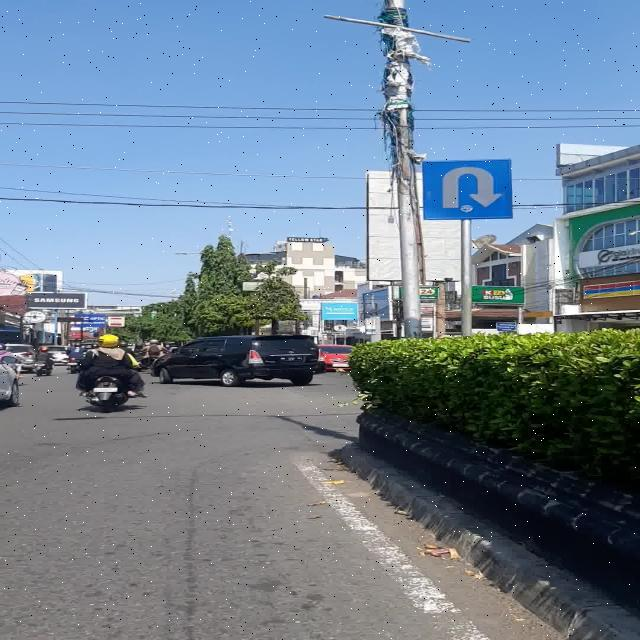Putar Balik: (422, 158, 514, 220)
